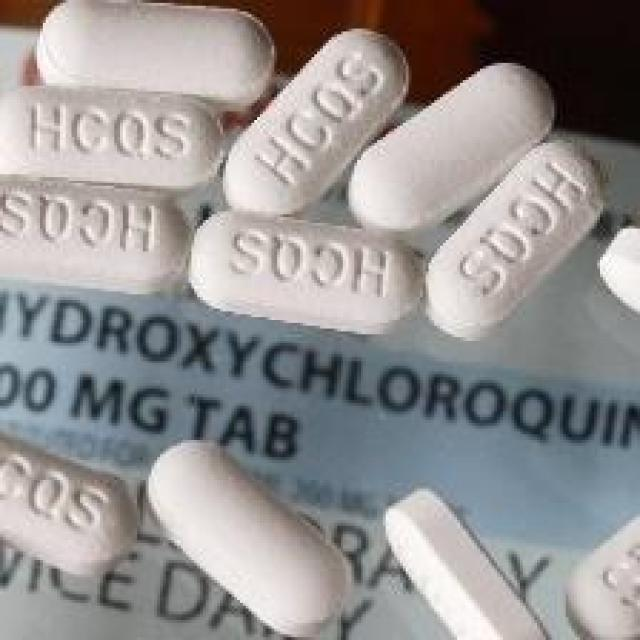Medicine: (356, 80, 640, 375), (138, 420, 350, 628), (228, 22, 410, 204), (192, 208, 422, 334), (367, 487, 556, 640), (0, 172, 190, 310), (20, 4, 276, 102), (3, 80, 232, 186), (0, 429, 132, 573), (561, 491, 640, 640)
